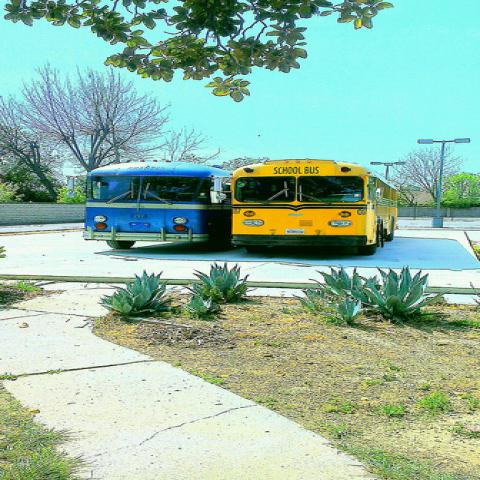bus: (228, 160, 401, 250), (81, 159, 235, 249)
